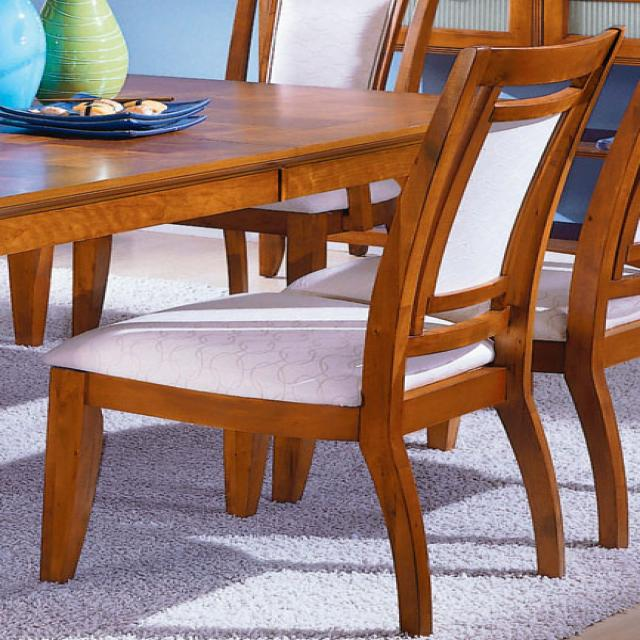chair: (37, 22, 640, 640)
